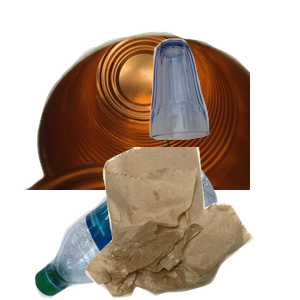glass: (147, 36, 300, 168)
metal: (21, 29, 261, 209)
plastic: (32, 154, 242, 300)
trash: (83, 147, 300, 300)
